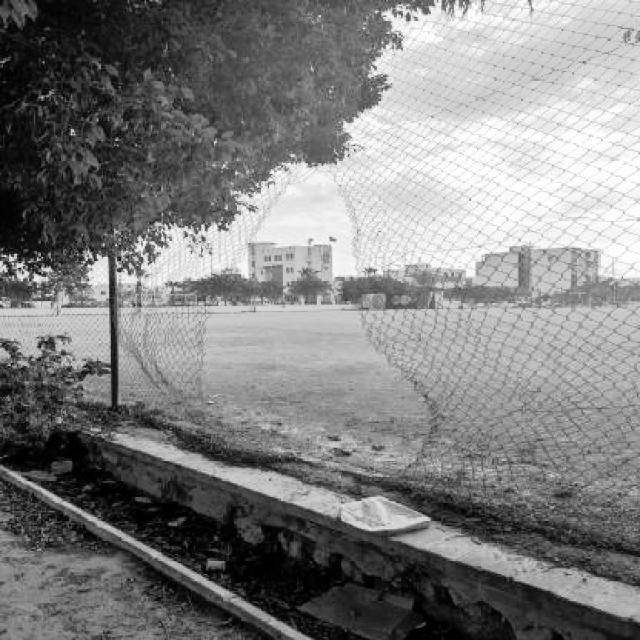anomaly-fence: (152, 134, 438, 464)
